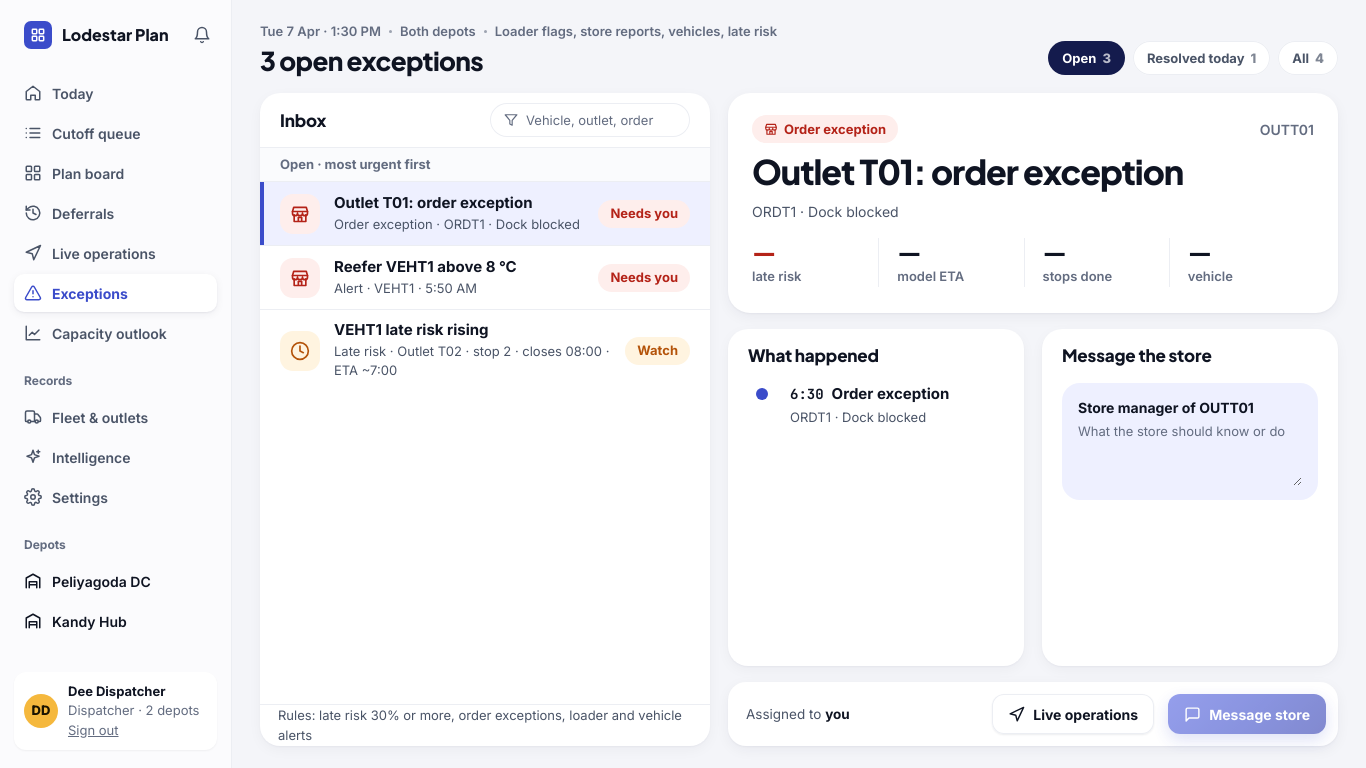
Test: DSP-13 Exceptions inbox › marks an alert handled and lists what was resolved in the last 24 h
Click the button "Reefer VEHT1 above 8 °C Alert · VEHT1 · 5:50 AM Needs you": (485, 277) left=260, top=245, right=710, bottom=309
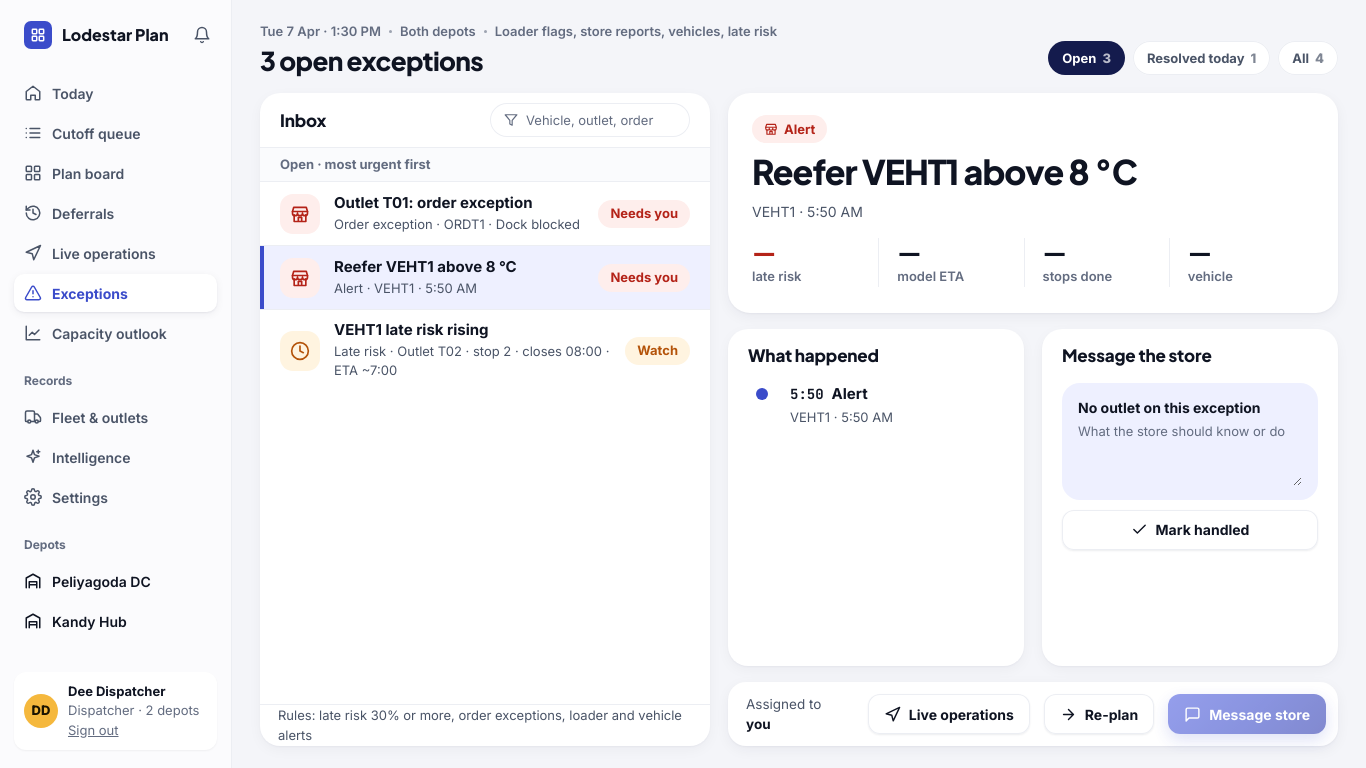
Click the button with test id "mark-handled": (1190, 530) left=1062, top=510, right=1318, bottom=550
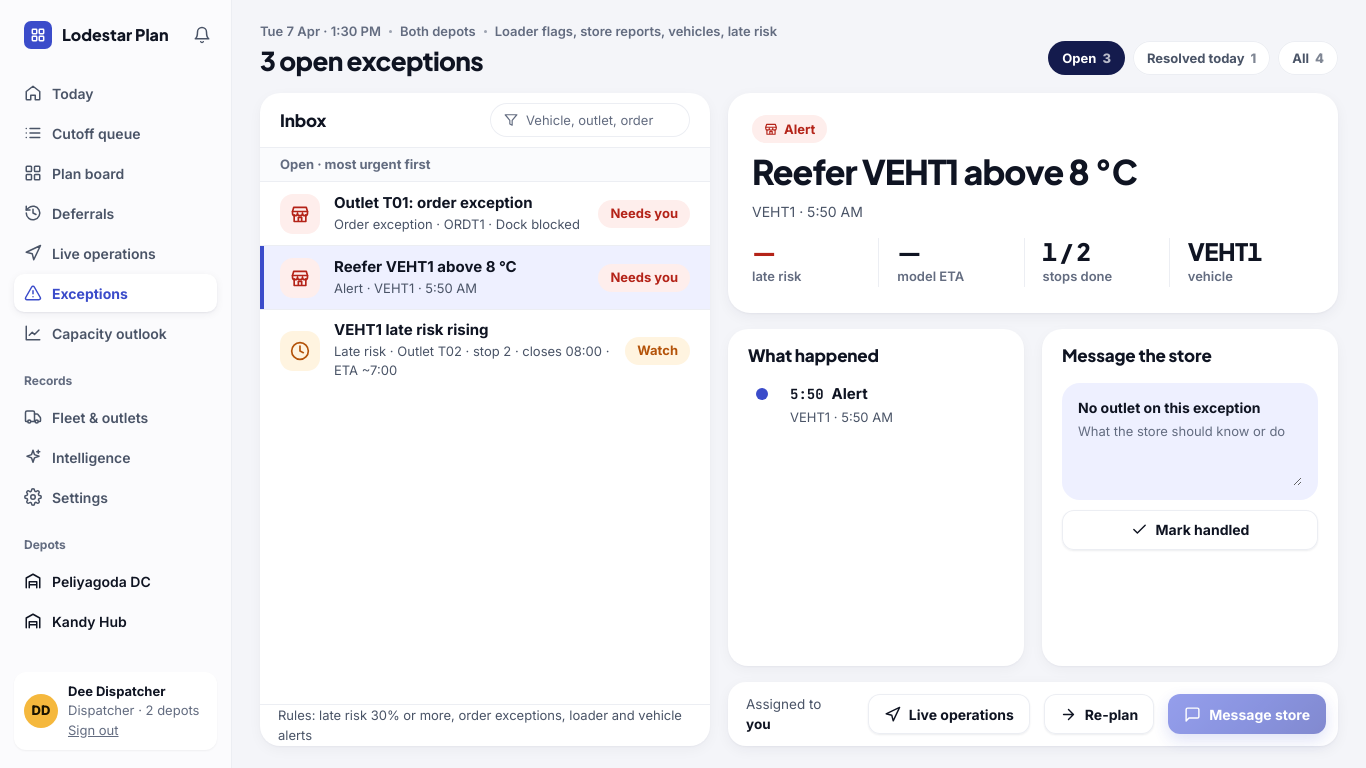
Click the button "Resolved today 1": (1202, 58) left=1133, top=41, right=1270, bottom=75
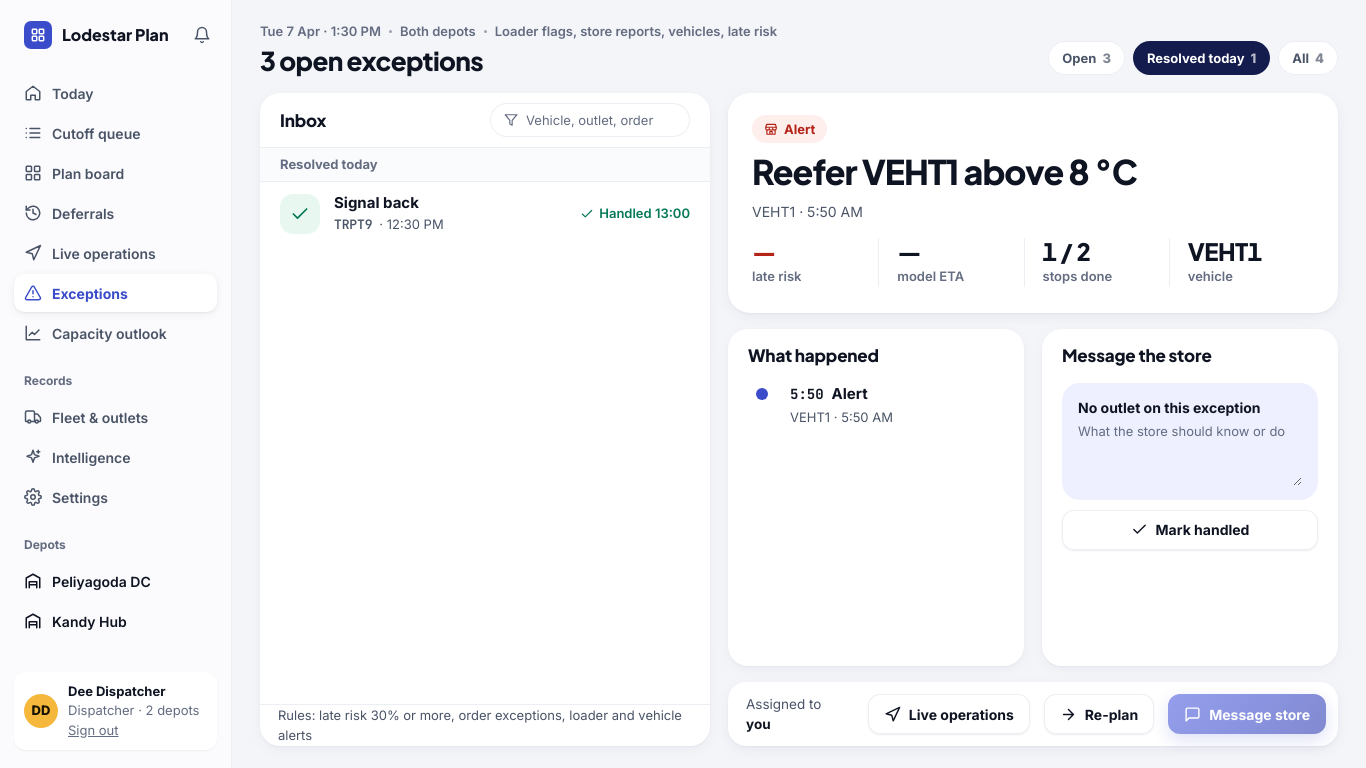
Result: the text "Signal back" is shown at left=334, top=193, right=419, bottom=212
Result: the text "Handled 13:00" is shown at left=580, top=204, right=690, bottom=224
